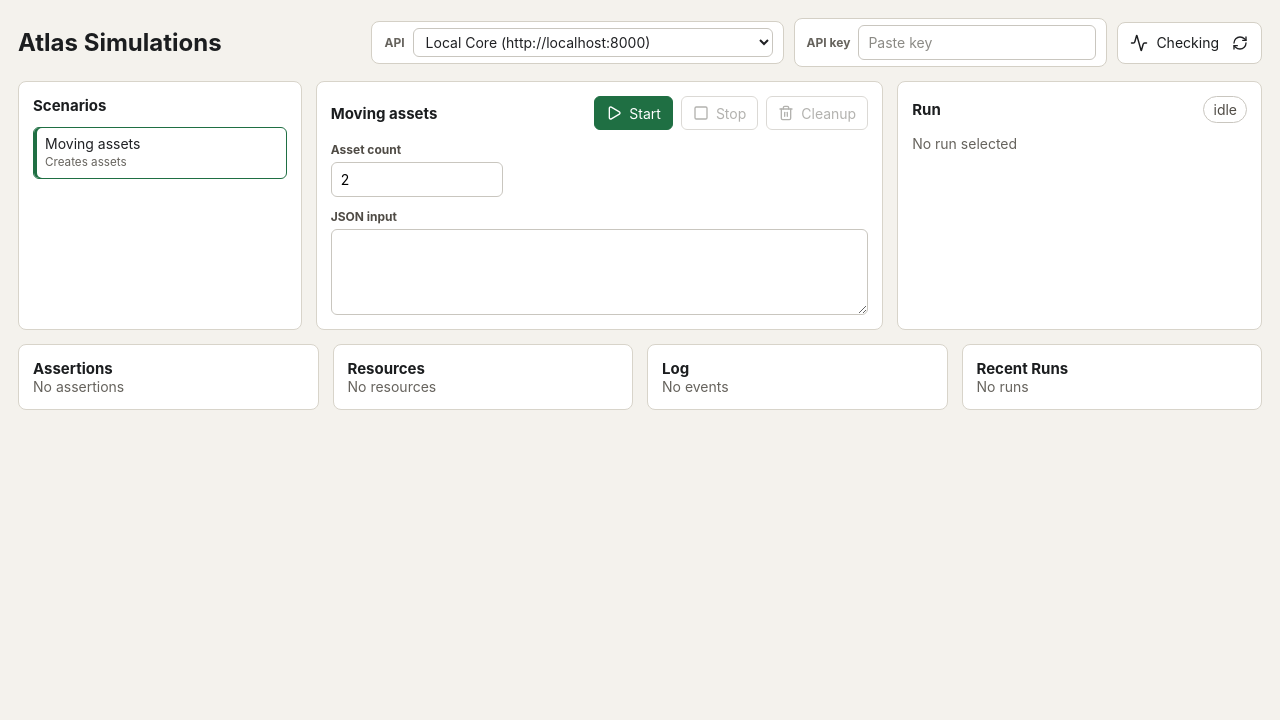
Scenario: App safety and cleanup › ignores stale health responses after target switches
Select "Atlas Command API (https://atlascommandapi.org)" in the dropdown labelled "API" at (593, 42), box left=413, top=28, right=773, bottom=57
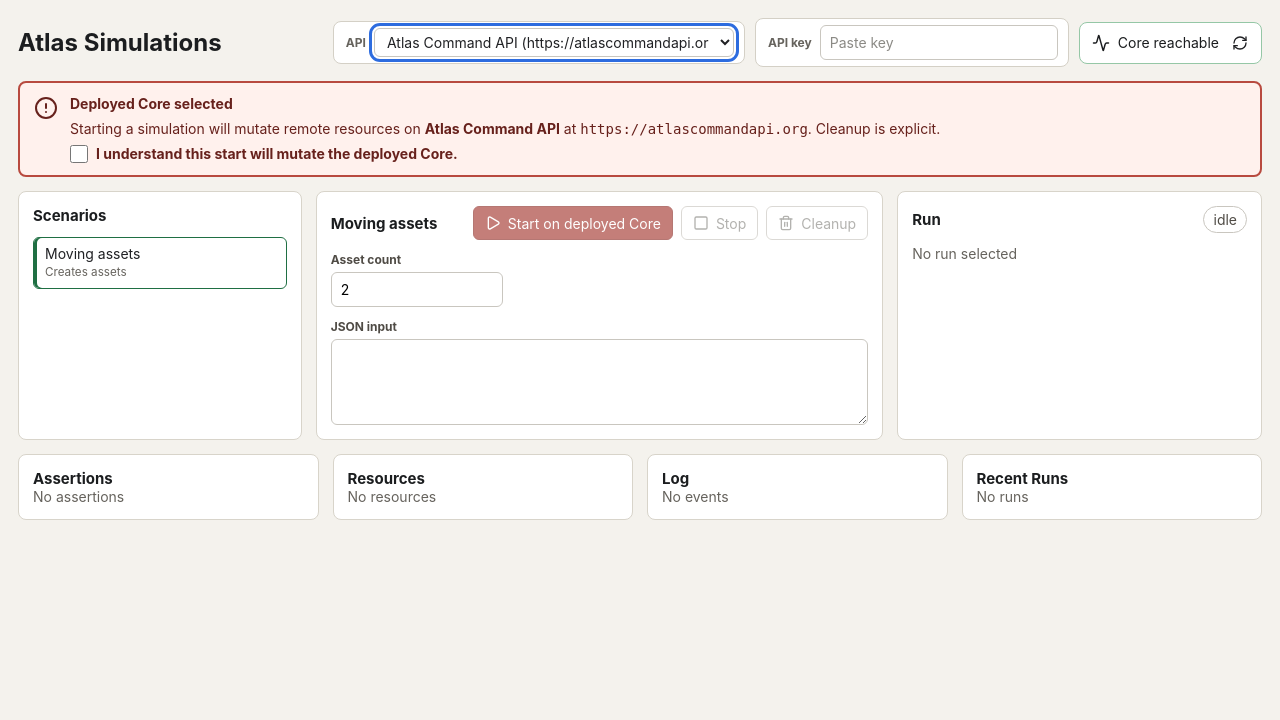
expect the text "Core reachable" is shown: met, box left=1118, top=34, right=1219, bottom=51
